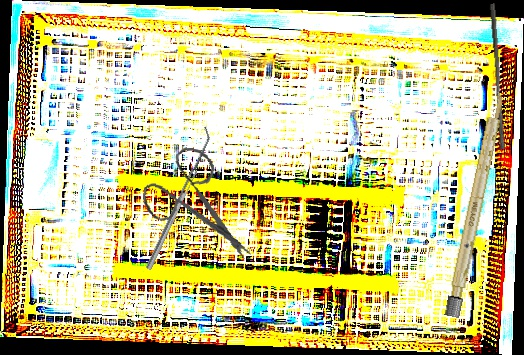Iris Scissors: (136, 142, 266, 262)
Pusher: (483, 3, 511, 150)
Scalpel Handle: (444, 90, 507, 319)
Spatula Surgical: (140, 125, 216, 271)
